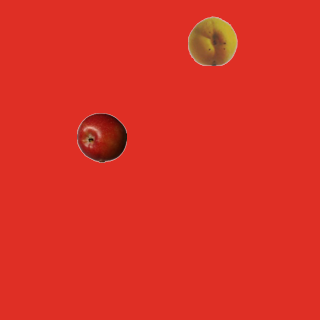Apple Braeburn: (76, 112, 126, 162)
Peach 2: (187, 15, 237, 65)
